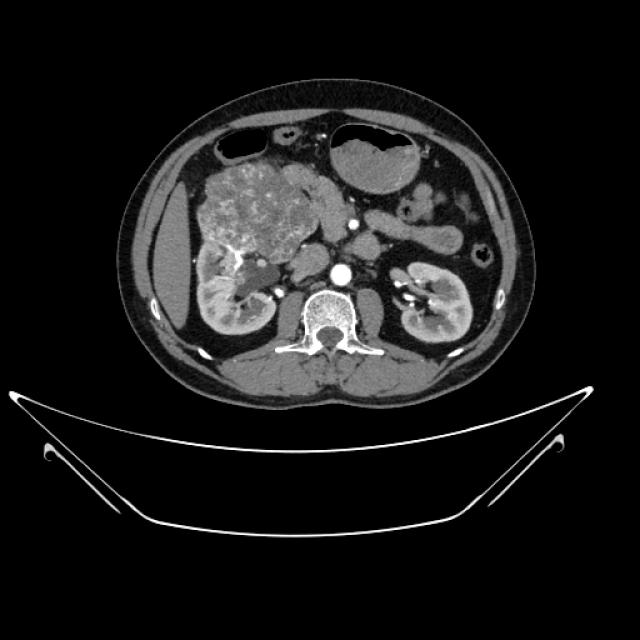Tumor: (180, 173, 349, 272)
